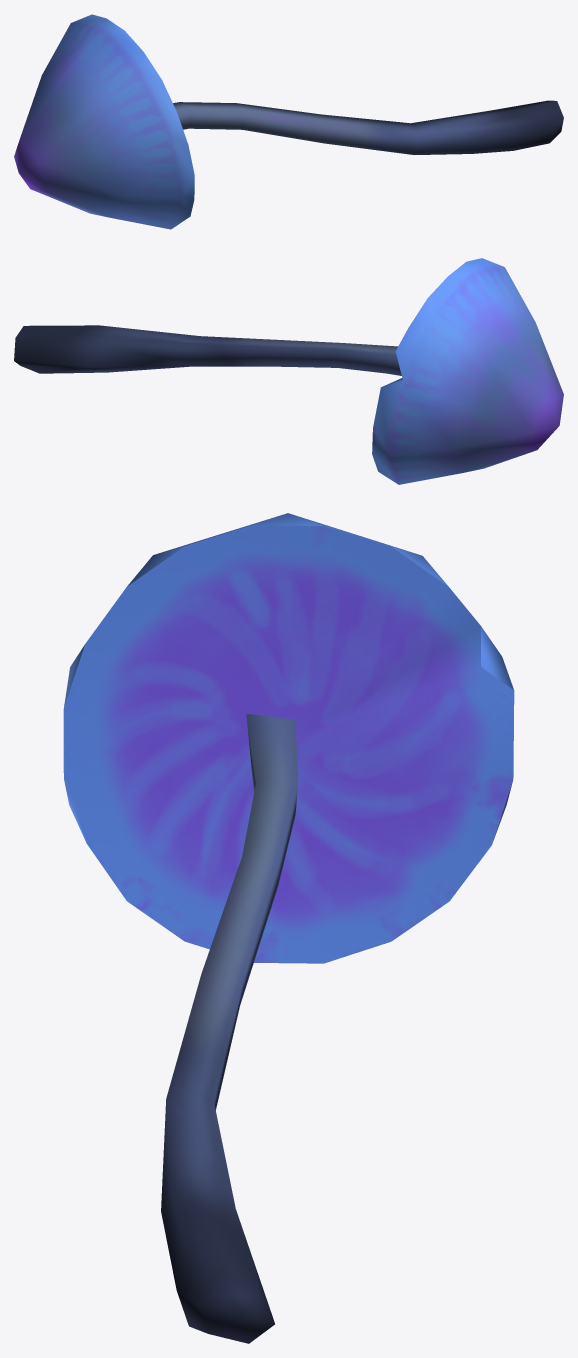
The model's file is SM_Potion_Props_Loot_Mushroom_01_B.fbx.
3 renders of one model, top to bottom at view 1: azimuth 30°, elevation 25°; view 2: azimuth 150°, elevation 25°; view 3: azimuth 270°, elevation 25°, orthographic. The views are drawn at different scales.
Parts seen in each view (by area): view 1: SM_Potion_Props_Loot_Mushroom_01_B_LOD0; view 2: SM_Potion_Props_Loot_Mushroom_01_B_LOD0; view 3: SM_Potion_Props_Loot_Mushroom_01_B_LOD0.
Part boxes in pixels (left/top/right/bottom): SM_Potion_Props_Loot_Mushroom_01_B_LOD0: left=14, top=14, right=563, bottom=229; SM_Potion_Props_Loot_Mushroom_01_B_LOD0: left=14, top=258, right=563, bottom=484; SM_Potion_Props_Loot_Mushroom_01_B_LOD0: left=63, top=513, right=514, bottom=1343.
Size of what is drawn, in the model's own units: 11.83 by 4.47 by 4.4.
